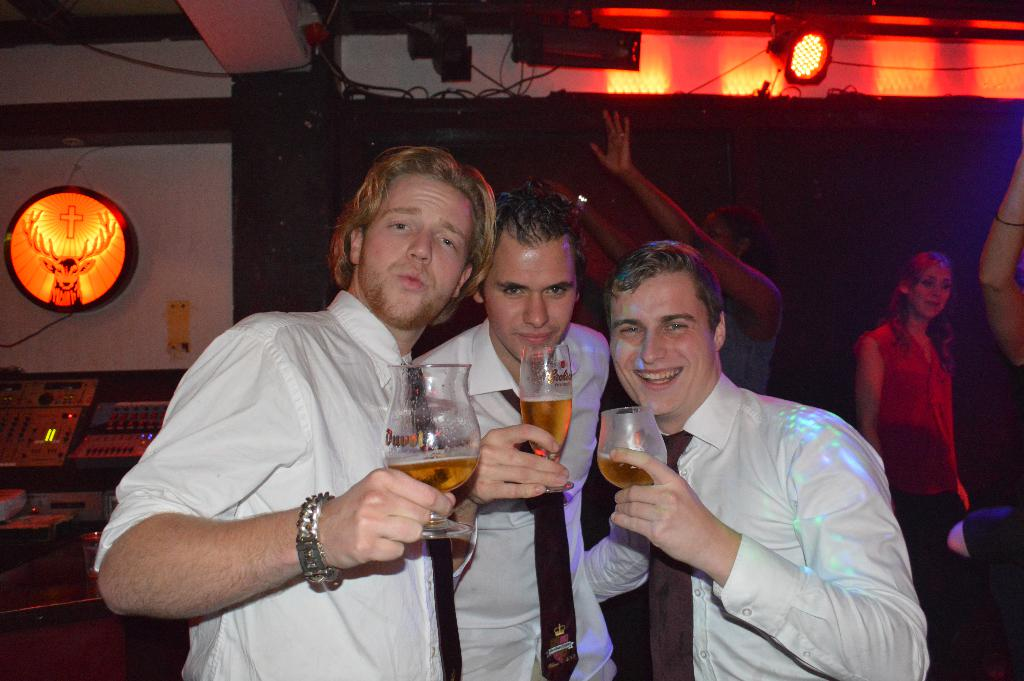Beer: (387, 452, 477, 492), (517, 395, 570, 457), (595, 449, 661, 483)
